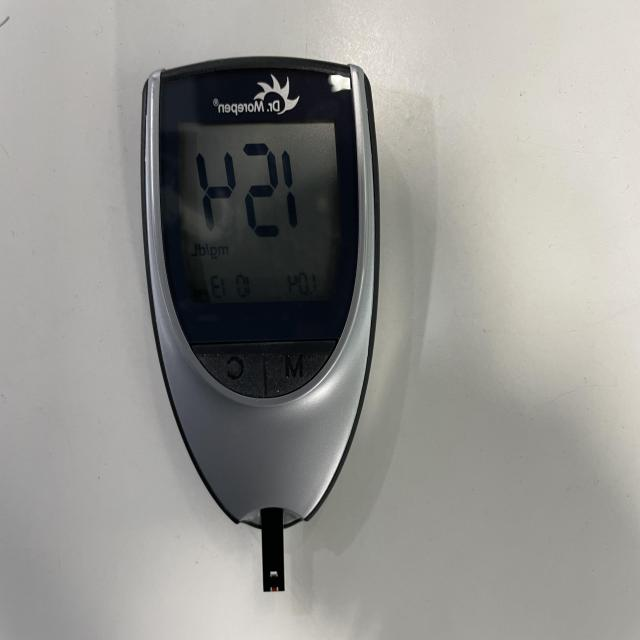gluco: (139, 58, 382, 594)
